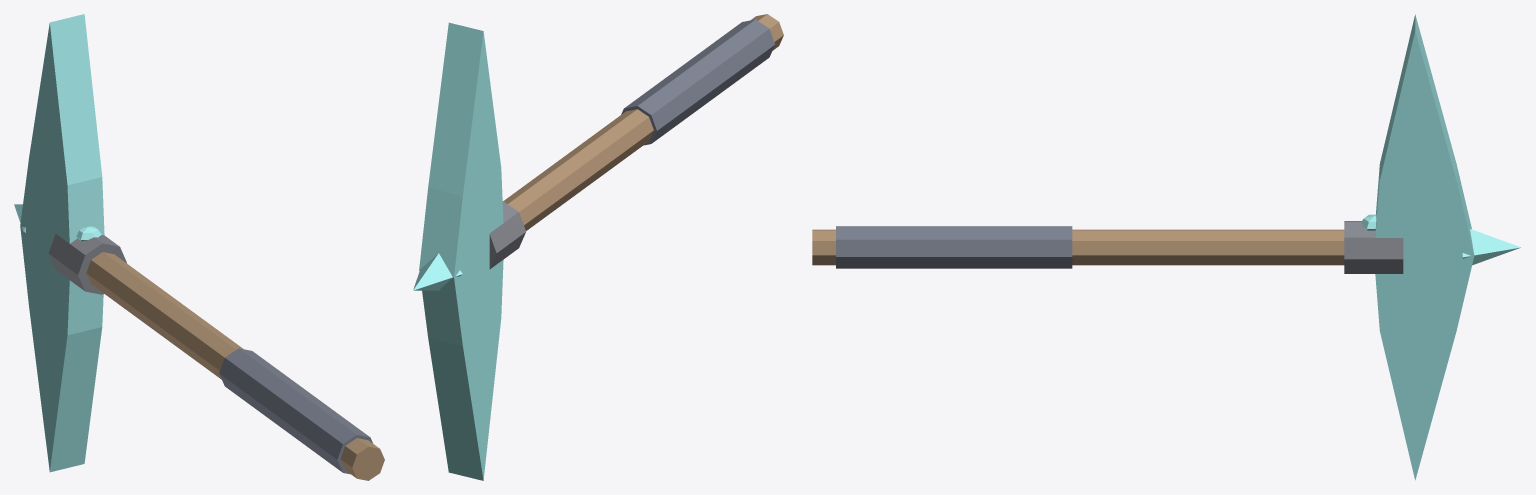
The model's file is diamond_pick_held.gltf.
The picture shows the model from 3 angles, left to right: view 1: azimuth 30°, elevation 25°; view 2: azimuth 150°, elevation 25°; view 3: azimuth 270°, elevation 25°; orthographic projection.
Parts seen in each view (by area): view 1: furnace_diamond_pick_held; view 2: furnace_diamond_pick_held; view 3: furnace_diamond_pick_held.
Part boxes in pixels (left/top/right/bottom): furnace_diamond_pick_held: left=14, top=14, right=384, bottom=480; furnace_diamond_pick_held: left=413, top=14, right=783, bottom=480; furnace_diamond_pick_held: left=812, top=14, right=1521, bottom=480.
Bounding box in the file's own units: 0.048 × 0.42 × 0.6.
